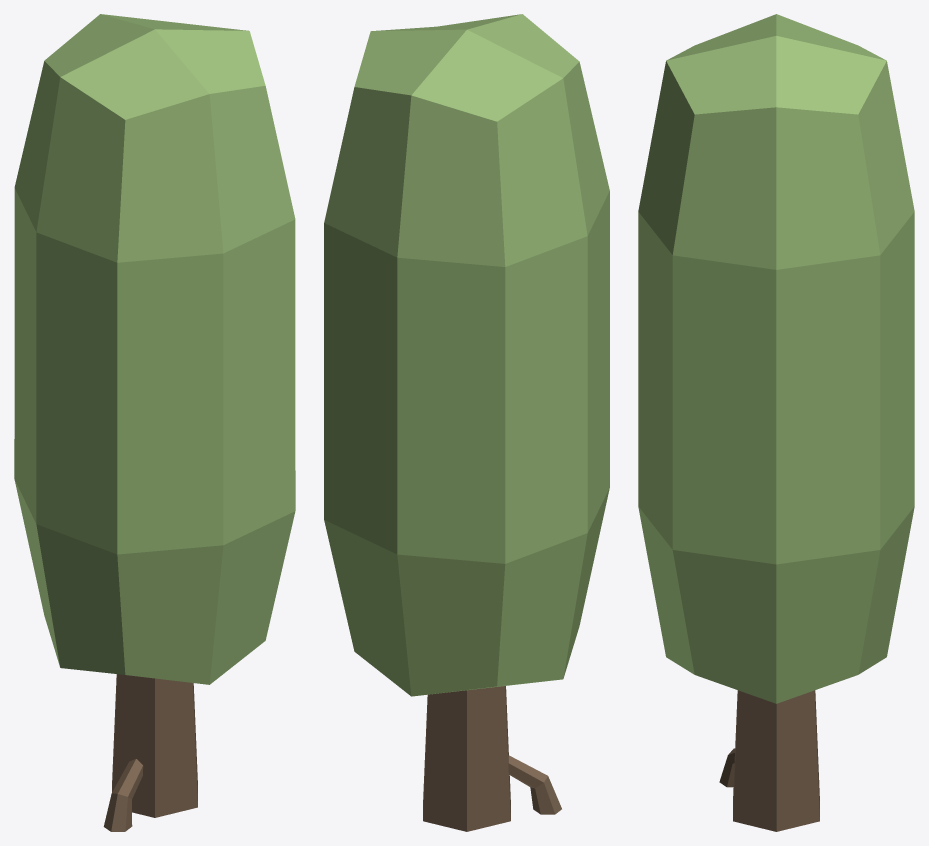
The model's file is Tree 10.fbx.
3 views of the same model, side by side, from view 1: azimuth 30°, elevation 25°; view 2: azimuth 150°, elevation 25°; view 3: azimuth 270°, elevation 25° (orthographic).
Parts seen in each view (by area): view 1: pCylinder367; view 2: pCylinder367; view 3: pCylinder367.
Part boxes in pixels (box(x1,y1,x2,y2)): pCylinder367: box(14, 14, 295, 831); pCylinder367: box(324, 14, 609, 831); pCylinder367: box(638, 14, 914, 831).
Size of the model in its own units: 0.7724 by 2.39 by 0.7724.
